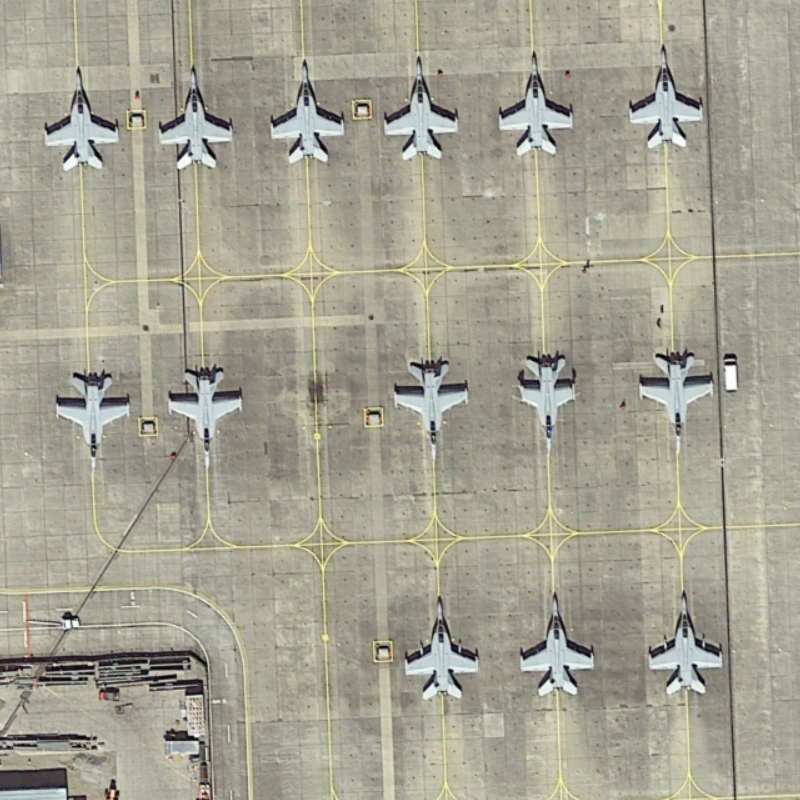A16: (381, 345, 479, 469), (393, 586, 487, 711), (485, 45, 585, 162), (511, 584, 604, 708), (35, 59, 126, 182), (45, 360, 138, 480), (145, 58, 238, 177), (639, 583, 731, 703), (374, 47, 466, 166), (504, 343, 592, 466), (260, 54, 353, 166), (634, 339, 717, 461), (161, 364, 251, 476), (627, 38, 711, 155)
